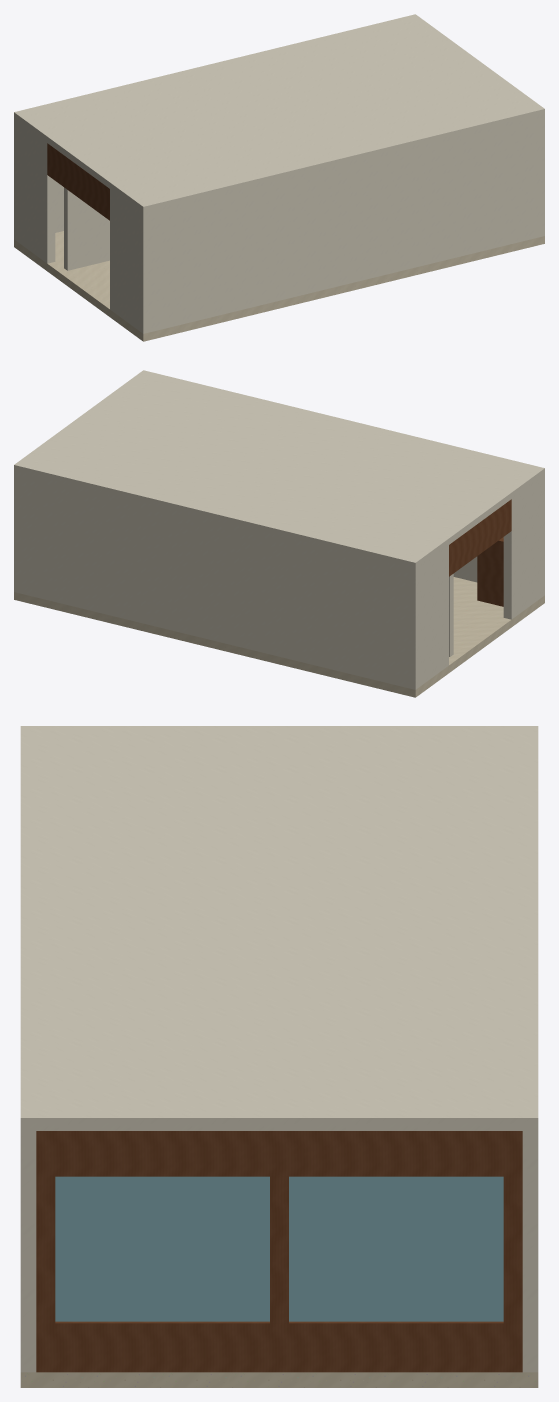
The model's file is TIDAL_SPECIALTY_D13_132_r001.glb.
3 views of the same model, one above another, from view 1: azimuth 30°, elevation 25°; view 2: azimuth 150°, elevation 25°; view 3: azimuth 270°, elevation 25° (orthographic). The views are drawn at different scales.
Parts seen in each view (by area): view 1: TQ132_Ceiling, TQ132_SouthWall, TQ132_Floor, TQ132_FrontWall_0, TQ132_FrontWall_1, TQ132_WashSouth_1, TQ132_EntryLintel, TQ132_NorthWall; view 2: TQ132_Ceiling, TQ132_NorthWall, TQ132_Floor, TQ132_FrontWall_1, TQ132_FrontWall_0, TQ132_EntryLintel, TQ132_ServiceSide_-296.32, TQ132_SouthWall, TQ132_WashSouth_1; view 3: TQ132_Ceiling, TQ132_CourtGlass_0, TQ132_CourtGlass_1, TQ132_WestSill, TQ132_WestHeader, TQ132_Floor, TQ132_NorthWall, TQ132_SouthWall, TQ132_WestPier_0, TQ132_WestPier_2, TQ132_WestPier_1.
Part boxes in pixels (x1,y1,x2,y2): TQ132_Ceiling: [14, 14, 544, 213]; TQ132_SouthWall: [139, 115, 544, 333]; TQ132_Floor: [14, 231, 544, 341]; TQ132_FrontWall_0: [18, 122, 55, 263]; TQ132_FrontWall_1: [110, 189, 139, 330]; TQ132_WashSouth_1: [64, 187, 109, 270]; TQ132_EntryLintel: [47, 143, 109, 220]; TQ132_NorthWall: [14, 119, 63, 241]; TQ132_Ceiling: [14, 370, 544, 569]; TQ132_NorthWall: [14, 471, 419, 689]; TQ132_Floor: [14, 577, 544, 697]; TQ132_FrontWall_1: [503, 478, 540, 619]; TQ132_FrontWall_0: [419, 545, 448, 686]; TQ132_EntryLintel: [449, 499, 511, 576]; TQ132_ServiceSide_-296.32: [477, 540, 503, 605]; TQ132_SouthWall: [453, 475, 544, 597]; TQ132_WashSouth_1: [449, 574, 453, 656]; TQ132_Ceiling: [20, 726, 538, 1130]; TQ132_CourtGlass_0: [289, 1176, 503, 1321]; TQ132_CourtGlass_1: [55, 1176, 269, 1321]; TQ132_WestSill: [36, 1321, 522, 1372]; TQ132_WestHeader: [36, 1131, 522, 1176]; TQ132_Floor: [20, 1372, 538, 1387]; TQ132_NorthWall: [522, 1131, 538, 1372]; TQ132_SouthWall: [20, 1131, 36, 1372]; TQ132_WestPier_0: [503, 1176, 522, 1323]; TQ132_WestPier_2: [36, 1176, 55, 1323]; TQ132_WestPier_1: [270, 1176, 288, 1323].
Size of the model in its own units: 12.9 by 4.14 by 7.2.
Materials: 7 (5 with a texture image).
